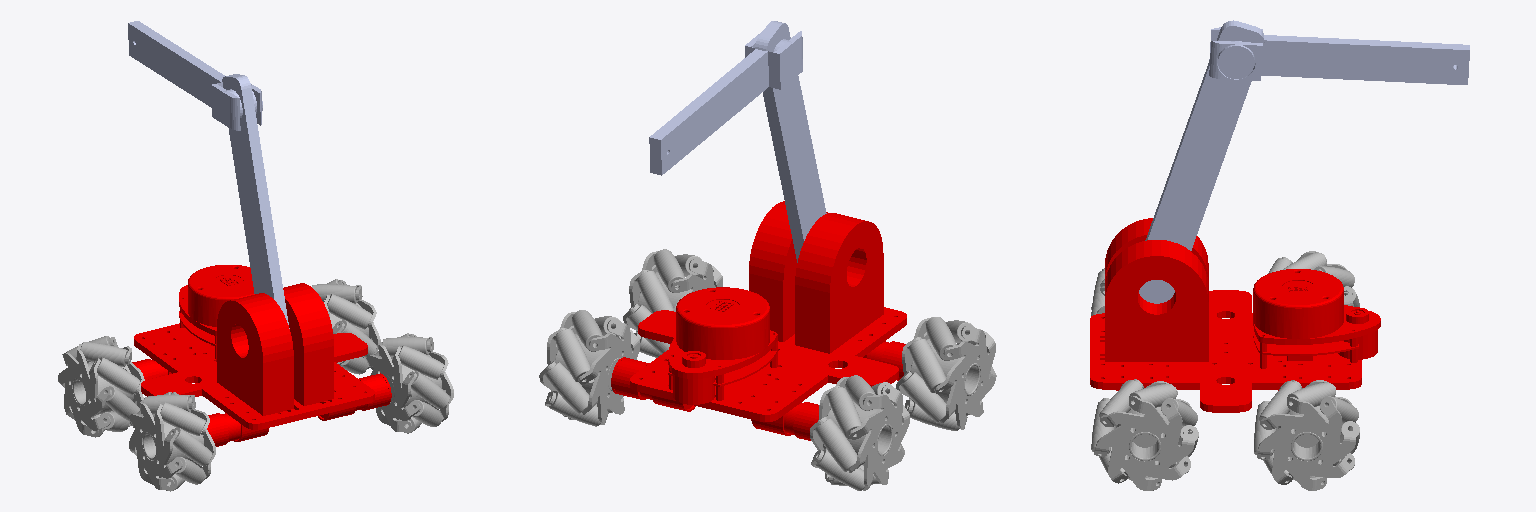
URDF robot description (hoanthien2):
<?xml version="1.0" encoding="utf-8"?>
<!-- This URDF was automatically created by SolidWorks to URDF Exporter! Originally created by [author] ([email redacted]) 
     Commit Version: 1.6.0-4-g7f85cfe  Build Version: 1.6.7995.38578
     For more information, please see http://wiki.ros.org/sw_urdf_exporter -->
<robot
  name="hoanthien2">
  <link
    name="base_link">
    <inertial>
      <origin
        xyz="0.00286817104929898 0.0320535087505236 0.0271879413595538"
        rpy="0 0 0" />
      <mass
        value="1.99036503943959" />
      <inertia
        ixx="1.0"
        ixy="0.0"
        ixz="0.0"
        iyy="1.0"
        iyz="0.0"
        izz="1" />
    </inertial>
    <visual>
      <origin
        xyz="0 0 0"
        rpy="0 0 0" />
      <geometry>
        <mesh
          filename="package://hoanthien2/meshes/base_link.STL" />
      </geometry>
      <material
        name="">
        <color
          rgba="1 0 0 1" />
      </material>
    </visual>
    <collision>
      <origin
        xyz="0 0 0"
        rpy="0 0 0" />
      <geometry>
        <mesh
          filename="package://hoanthien2/meshes/base_link.STL" />
      </geometry>
    </collision>

    
  </link>
  <link
    name="point1">
    <inertial>
      <origin
        xyz="0.012170383848509 -0.000734193897271036 0.00663389125556951"
        rpy="0 0 0" />
      <mass
        value="0.132869959415392" />
      <inertia
        ixx="1.0"
        ixy="0.0"
        ixz="0.0"
        iyy="1.0"
        iyz="0.0"
        izz="1.0" />
    </inertial>
    <visual>
      <origin
        xyz="0 0 0"
        rpy="0 0 0" />
      <geometry>
        <mesh
          filename="package://hoanthien2/meshes/point1.STL" />
      </geometry>
      <material
        name="">
        <color
          rgba="0.752941176470588 0.752941176470588 0.752941176470588 1" />
      </material>
    </visual>
    <collision>
      <origin
        xyz="0 0 0"
        rpy="0 0 0" />
      <geometry>
        <mesh
          filename="package://hoanthien2/meshes/point1.STL" />
      </geometry>
    </collision>
  </link>
  
  <joint
    name="join_1"
    type="continuous">
    <origin
      xyz="-0.1258 0.062627 -0.025616"
      rpy="0 0 0" />
    <parent
      link="base_link" />
    <child
      link="point1" />
    <axis
      xyz="1 0 0" />
  </joint>
  <link
    name="point2">
    <inertial>
      <origin
        xyz="0.0023703838485091 1.68257945659667E-05 -4.54593241776546E-05"
        rpy="0 0 0" />
      <mass
        value="0.132869959415391" />
      <inertia
        ixx="1.0"
        ixy="0.0"
        ixz="0.0"
        iyy="1.0"
        iyz="0.0"
        izz="1.0" />
    </inertial>
    <visual>
      <origin
        xyz="0 0 0"
        rpy="0 0 0" />
      <geometry>
        <mesh
          filename="package://hoanthien2/meshes/point2.STL" />
      </geometry>
      <material
        name="">
        <color
          rgba="0.752941176470588 0.752941176470588 0.752941176470588 1" />
      </material>
    </visual>
    <collision>
      <origin
        xyz="0 0 0"
        rpy="0 0 0" />
      <geometry>
        <mesh
          filename="package://hoanthien2/meshes/point2.STL" />
      </geometry>
    </collision>
  </link>
  <joint
    name="join2"
    type="continuous">
    <origin
      xyz="-0.1192 -0.063124 -0.018973"
      rpy="0 0 0" />
    <parent
      link="base_link" />
    <child
      link="point2" />
    <axis
      xyz="1 0 0" />
  </joint>
  <link
    name="point3">
    <inertial>
      <origin
        xyz="-0.00237045353398613 2.98881320330013E-05 -3.35559718476763E-05"
        rpy="0 0 0" />
      <mass
        value="0.132869959439886" />
      <inertia
        ixx="1.0"
        ixy="0.0"
        ixz="0.0"
        iyy="1.0"
        iyz="0.0"
        izz="1.0" />
    </inertial>
    <visual>
      <origin
        xyz="0 0 0"
        rpy="0 0 0" />
      <geometry>
        <mesh
          filename="package://hoanthien2/meshes/point3.STL" />
      </geometry>
      <material
        name="">
        <color
          rgba="0.752941176470588 0.752941176470588 0.752941176470588 1" />
      </material>
    </visual>
    <collision>
      <origin
        xyz="0 0 0"
        rpy="0 0 0" />
      <geometry>
        <mesh
          filename="package://hoanthien2/meshes/point3.STL" />
      </geometry>
    </collision>
  </link>
  <joint
    name="joint3"
    type="continuous">
    <origin
      xyz="0.11921 -0.062994 -0.019"
      rpy="0 0 0" />
    <parent
      link="base_link" />
    <child
      link="point3" />
    <axis
      xyz="1 0 0" />
  </joint>
  <link
    name="point4">
    <inertial>
      <origin
        xyz="-0.0121703838485092 0.00518358872069528 0.00420451683837419"
        rpy="0 0 0" />
      <mass
        value="0.132869959415391" />
      <inertia
        ixx="1.0"
        ixy="0.0"
        ixz="0.0"
        iyy="1.0"
        iyz="0.0"
        izz="1.0" />
    </inertial>
    <visual>
      <origin
        xyz="0 0 0"
        rpy="0 0 0" />
      <geometry>
        <mesh
          filename="package://hoanthien2/meshes/point4.STL" />
      </geometry>
      <material
        name="">
        <color
          rgba="0.752941176470588 0.752941176470588 0.752941176470588 1" />
      </material>
    </visual>
    <collision>
      <origin
        xyz="0 0 0"
        rpy="0 0 0" />
      <geometry>
        <mesh
          filename="package://hoanthien2/meshes/point4.STL" />
      </geometry>
    </collision>
  </link>
  <joint
    name="joint4"
    type="continuous">
    <origin
      xyz="0.129 0.056672 -0.023171"
      rpy="0 0 0" />
    <parent
      link="base_link" />
    <child
      link="point4" />
    <axis
      xyz="1 0 0" />
  </joint>
  <link
    name="tay1_Link">
    <inertial>
      <origin
        xyz="0.005 -0.000750852195158469 -0.00233122622013765"
        rpy="0 0 0" />
      <mass
        value="0.113350434059692" />
      <inertia
        ixx="1.0"
        ixy="0.0"
        ixz="0.0"
        iyy="1.0"
        iyz="0.0"
        izz="1.0" />
    </inertial>
    <visual>
      <origin
        xyz="0 0 0"
        rpy="0 0 0" />
      <geometry>
        <mesh
          filename="package://hoanthien2/meshes/tay1_Link.STL" />
      </geometry>
      <material
        name="">
        <color
          rgba="0.792156862745098 0.819607843137255 0.933333333333333 1" />
      </material>
    </visual>
    <collision>
      <origin
        xyz="0 0 0"
        rpy="0 0 0" />
      <geometry>
        <mesh
          filename="package://hoanthien2/meshes/tay1_Link.STL" />
      </geometry>
    </collision>
  </link>
  <joint
    name="tay1_joint"
    type="continuous">
    <origin
      xyz="-0.014996 -0.022926 0.15105"
      rpy="0 0 0" />
    <parent
      link="base_link" />
    <child
      link="tay1_Link" />
    <axis
      xyz="0 0 1" />

  </joint>
  <link
    name="tay2_Link">
    <inertial>
      <origin
        xyz="0.00480763511255766 -0.00909205564187039 0.000475119050931783"
        rpy="0 0 0" />
      <mass
        value="0.0528243719291935" />
      <inertia
        ixx="1.0"
        ixy="0.0"
        ixz="0.0"
        iyy="1.0"
        iyz="0.0"
        izz="1.0" />
    </inertial>
    <visual>
      <origin
        xyz="0 0 0"
        rpy="0 0 0" />
      <geometry>
        <mesh
          filename="package://hoanthien2/meshes/tay2_Link.STL" />
      </geometry>
      <material
        name="">
        <color
          rgba="0.792156862745098 0.819607843137255 0.933333333333333 1" />
      </material>
    </visual>
    <collision>
      <origin
        xyz="0 0 0"
        rpy="0 0 0" />
      <geometry>
        <mesh
          filename="package://hoanthien2/meshes/tay2_Link.STL" />
      </geometry>
    </collision>
  </link>
  <joint
    name="tay2_joint"
    type="continuous">
    <origin
      xyz="-0.015996 0.10684 0.23984"
      rpy="0 0 0" />
    <parent
      link="base_link" />
    <child
      link="tay2_Link" />
    <axis
      xyz="0 0 1" />

  </joint>
  
  <joint name="imu_joint" type="fixed">
        <parent link="base_link"/>
        <child link="imu_link"/>
        <origin xyz="0 0 0" rpy="0 0 0"/>
    </joint>

    <link name="imu_link">
    </link>

  <gazebo reference="imu_link">
    <gravity>true</gravity>
    <sensor name="imu_sensor" type="imu">
      <always_on>true</always_on>
      <update_rate>100</update_rate>
      <visualize>true</visualize>
      <topic>imu</topic>
      <plugin filename="libgazebo_ros_imu_sensor.so" name="imu_plugin">
        <topicName>imu</topicName>
        <bodyName>imu_link</bodyName>
        <updateRateHZ>10.0</updateRateHZ>
        <gaussianNoise>0.0</gaussianNoise>
        <xyzOffset>0 0 0</xyzOffset>
        <rpyOffset>0 0 0</rpyOffset>
        <frameName>imu_link</frameName>
        <initialOrientationAsReference>false</initialOrientationAsReference>
      </plugin>
      <pose>0 0 0 0 0 0</pose>
    </sensor>
  </gazebo>


 <gazebo>
  <plugin name="omni_drive_controller" filename="libgazebo_ros_planar_move.so">
    <commandTopic>cmd_vel</commandTopic>
    <odometryTopic>odom</odometryTopic>
    <odometryFrame>odom</odometryFrame>
    <robotBaseFrame>base_link</robotBaseFrame>
    <updateRate>100.0</updateRate>
    <robotNamespace>/</robotNamespace>
    <publishTf>true</publishTf>
  </plugin>
</gazebo>



<gazebo reference="base_link">
  <sensor name="lidar_sensor" type="ray">
    <pose>0 0 0.1 0 0 0</pose> 
    <visualize>true</visualize>
    <update_rate>10</update_rate> 
    <ray>
      <scan>
        <horizontal>
          <samples>360</samples>
          <resolution>1</resolution>
          <min_angle>-3.14/2</min_angle> 
          <max_angle>3.14</max_angle>  
        </horizontal>
      </scan>
      <range>
        <min>0.1</min>
        <max>10.0</max>
        <resolution>0.01</resolution>
      </range>
    </ray>
    <plugin name="gazebo_ros_laser" filename="libgazebo_ros_laser.so">
      <topicName>/lidar_scan</topicName>
      <frameName>lidar_sensor</frameName>
    </plugin>
  </sensor>
</gazebo>
</robot>

--- Render facts (derived) ---
The picture shows the robot from 3 angles, left to right: view 1: azimuth 30°, elevation 25°; view 2: azimuth 150°, elevation 25°; view 3: azimuth 270°, elevation 25°; orthographic projection.
Model hoanthien2 with 8 links and 7 joints (6 continuous, 1 fixed), rooted at base_link, posed every joint at zero.
Visible links, largest first — view 1: base_link, point2, point1, tay1_Link, point3, tay2_Link, point4; view 2: base_link, point1, point2, point4, tay2_Link, tay1_Link, point3; view 3: base_link, tay1_Link, tay2_Link, point4, point3, point1.
Boxes of the visible links, bbox=[...] form: base_link: bbox=[132, 265, 391, 446]; point2: bbox=[129, 392, 215, 491]; point1: bbox=[58, 336, 144, 437]; tay1_Link: bbox=[222, 74, 289, 328]; point3: bbox=[367, 333, 453, 433]; tay2_Link: bbox=[128, 21, 261, 130]; point4: bbox=[312, 279, 380, 374]; base_link: bbox=[611, 201, 906, 440]; point1: bbox=[810, 375, 909, 490]; point2: bbox=[896, 317, 996, 430]; point4: bbox=[539, 310, 639, 426]; tay2_Link: bbox=[649, 31, 802, 175]; tay1_Link: bbox=[755, 21, 826, 262]; point3: bbox=[623, 249, 722, 357]; base_link: bbox=[1090, 218, 1380, 412]; tay1_Link: bbox=[1139, 20, 1264, 303]; tay2_Link: bbox=[1209, 27, 1469, 84]; point4: bbox=[1254, 380, 1359, 490]; point3: bbox=[1091, 379, 1198, 490]; point1: bbox=[1268, 251, 1359, 306].
Size in the robot's own frame: 0.2791 by 0.2933 by 0.3325 metres.
Meshes: 7 distinct files referenced, 7 mesh visuals loaded (7 binary STL).
